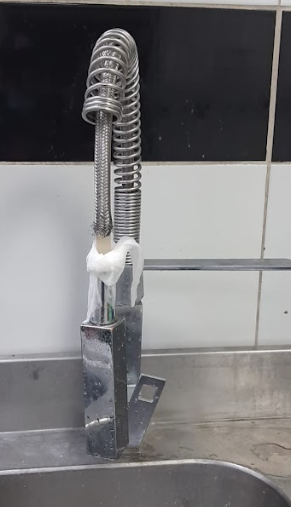Deck Faucet: (38, 25, 205, 464)
